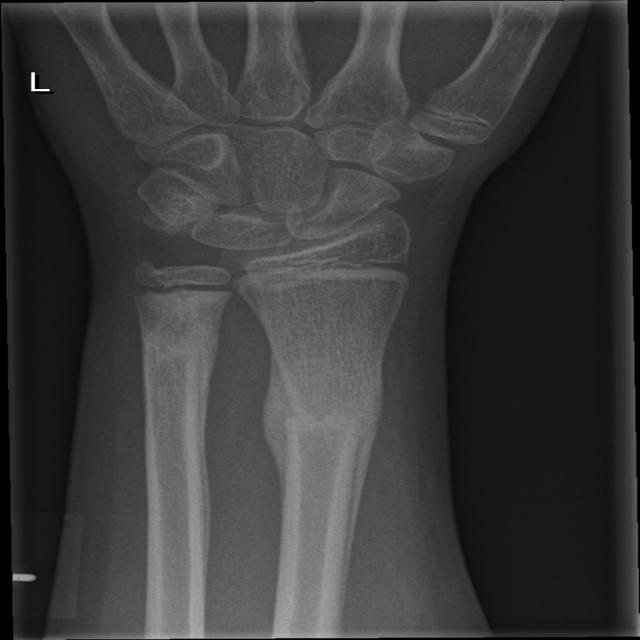radius fracture: (247, 355, 419, 541)
ulna fracture: (108, 303, 245, 446)
